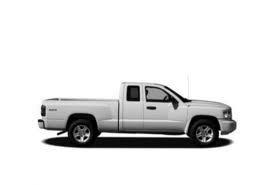car: (39, 81, 238, 148)
